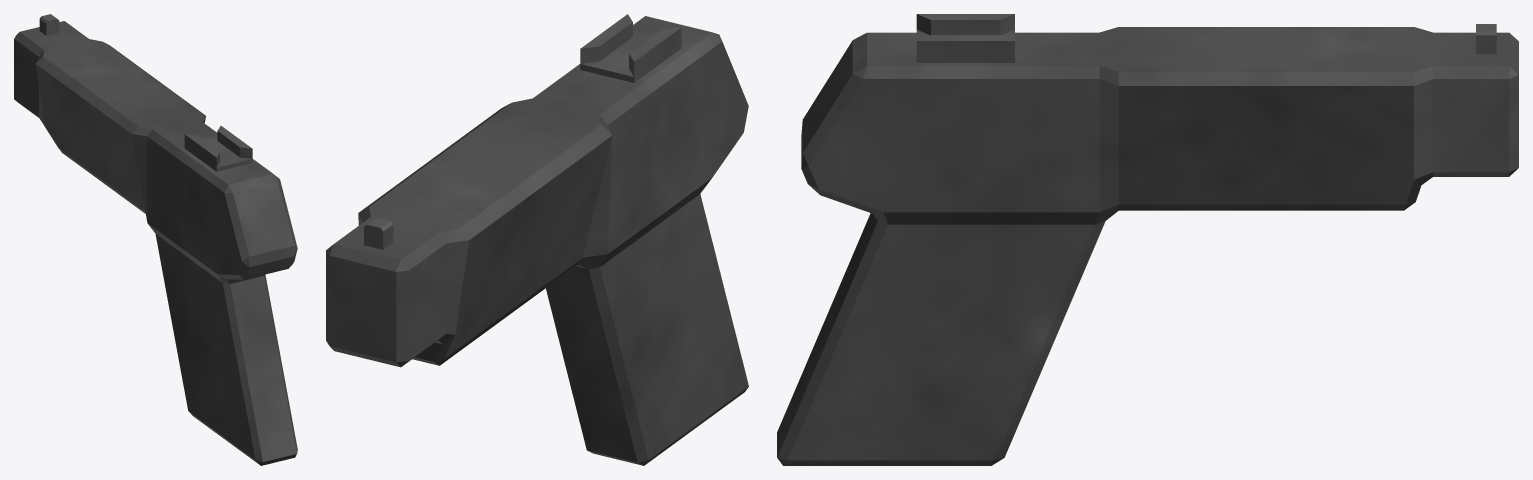
File: gun.fbx
The picture shows the model from 3 angles, left to right: view 1: azimuth 30°, elevation 25°; view 2: azimuth 150°, elevation 25°; view 3: azimuth 270°, elevation 25°; orthographic projection. The views are drawn at different scales.
Visible parts, largest first — view 1: Cube; view 2: Cube; view 3: Cube.
Part boxes in pixels (left/top/right/bottom): Cube: left=14, top=14, right=297, bottom=465; Cube: left=326, top=14, right=748, bottom=465; Cube: left=777, top=14, right=1518, bottom=465.
Bounding box in the file's own units: 0.6861 × 2.44 × 3.85.
